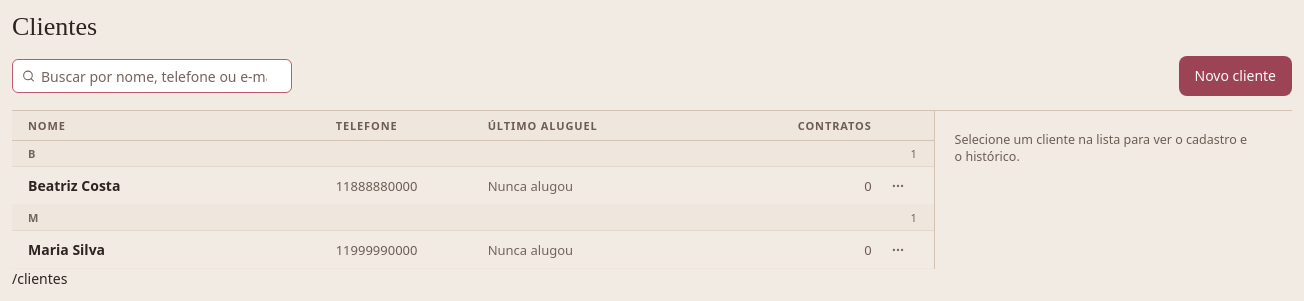
Test: ClientsPage › filters the list by name, phone, or email as the search box is typed into
Expected: the text "Maria Silva" is shown, x1=28 y1=240 x2=105 y2=260
Expected: the text "Beatriz Costa" is shown, x1=28 y1=176 x2=120 y2=196
In the search field with placeholder "Buscar por nome, telefone ou e-mail...": x=152, y=76 x1=12 y1=59 x2=292 y2=93, type "beatriz"
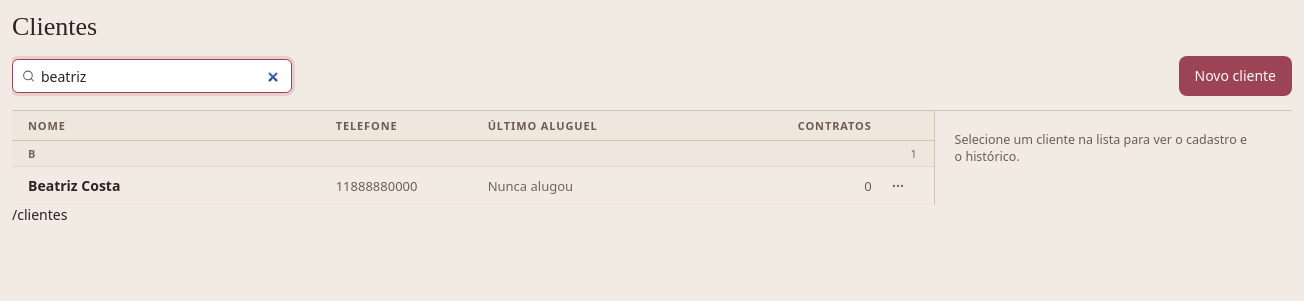
Expected: the text "Beatriz Costa" is shown, x1=28 y1=176 x2=120 y2=196
Now the text "Maria Silva" is gone
